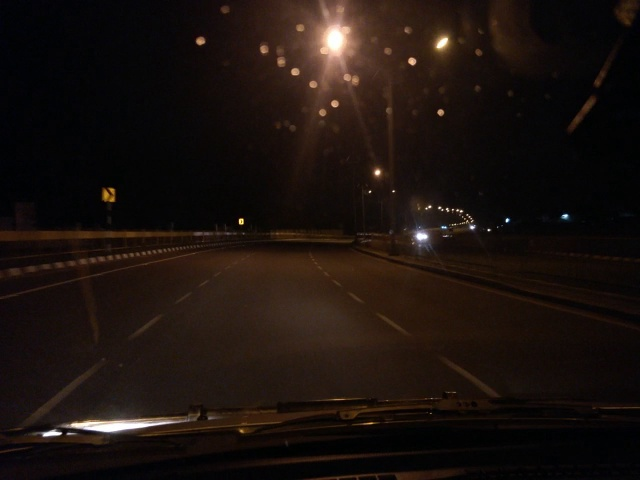bus: (407, 231, 434, 247)
